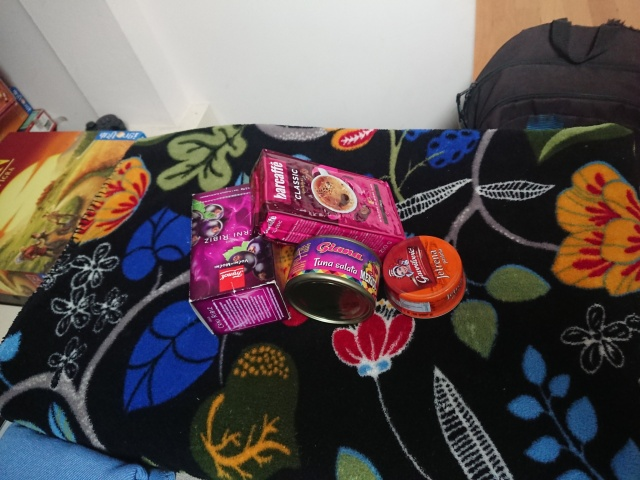Barcaffe Classic Original 225g: (247, 146, 410, 266)
Franck Black Currant Tea 60g: (184, 179, 295, 341)
Gavrilovic Pork Liver Pate 100g: (378, 233, 469, 322)
Giana Tuna Salad Mexico 185g: (282, 233, 385, 326)
